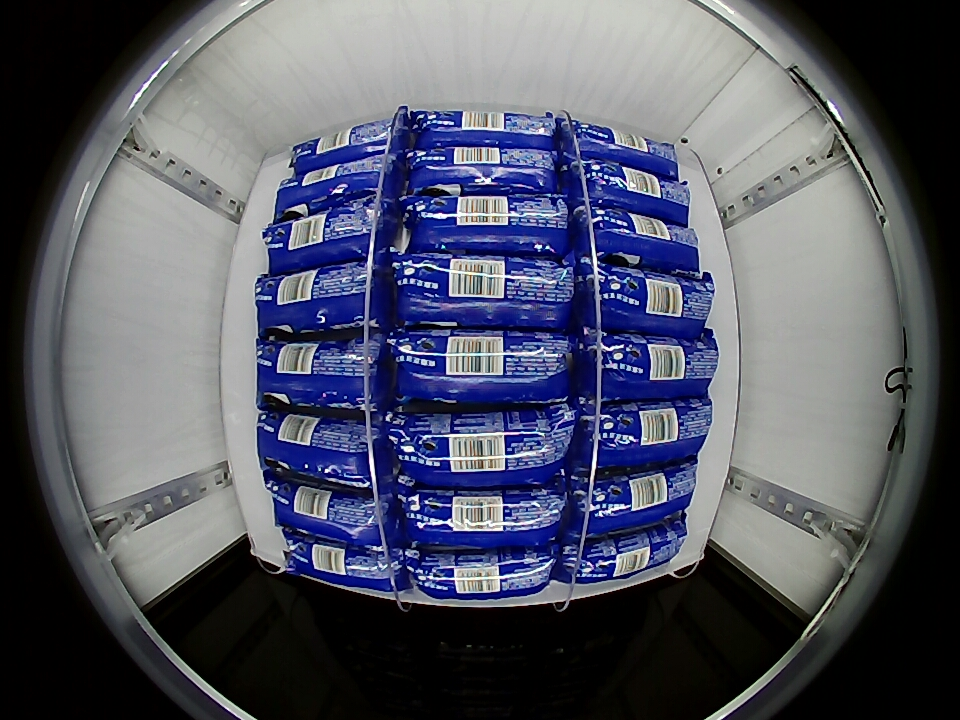aoliao: (389, 404, 573, 487), (389, 326, 572, 407), (394, 252, 574, 329), (398, 480, 564, 549), (406, 192, 569, 257), (407, 125, 558, 193), (255, 411, 376, 489), (255, 337, 380, 412), (406, 543, 556, 605), (586, 397, 713, 468), (575, 463, 695, 537), (590, 264, 717, 333), (592, 331, 720, 399), (253, 264, 374, 335), (261, 202, 380, 271), (268, 482, 387, 548), (571, 521, 686, 588), (585, 206, 703, 271), (280, 533, 399, 597), (574, 158, 692, 222), (560, 116, 680, 177), (403, 108, 558, 155), (274, 155, 387, 218), (290, 117, 399, 176)
